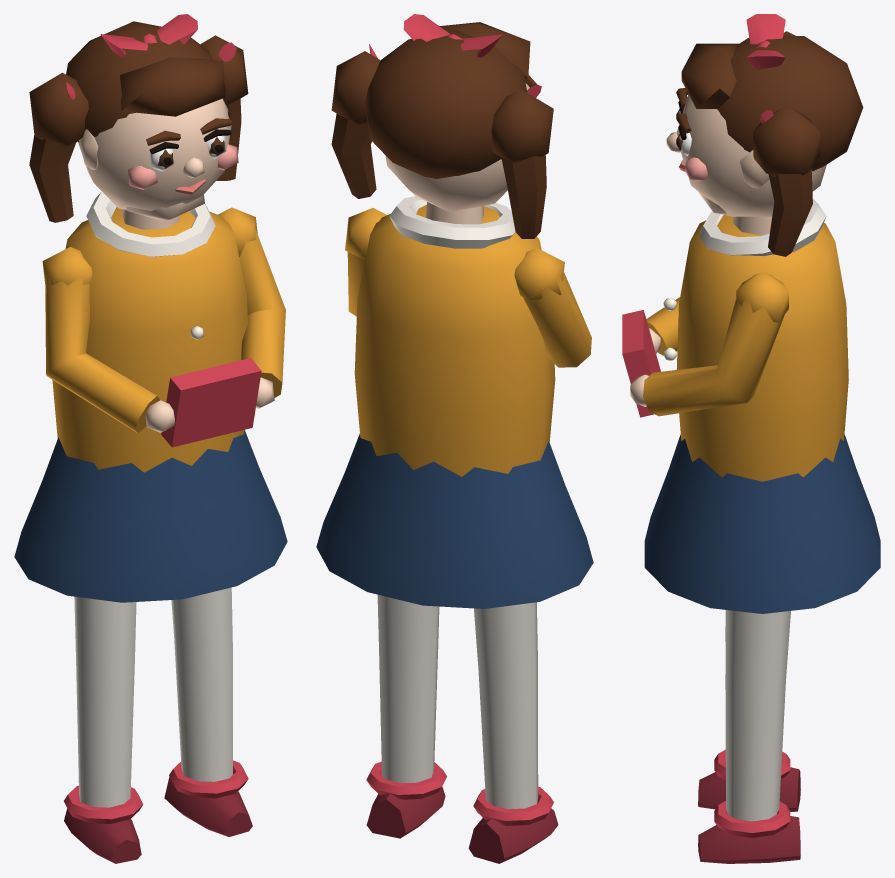
The model's file is char_girl.glb.
3 views of the same model, side by side, from view 1: azimuth 30°, elevation 25°; view 2: azimuth 150°, elevation 25°; view 3: azimuth 270°, elevation 25° (orthographic).
Parts seen in each view (by area): view 1: char_girl; view 2: char_girl; view 3: char_girl.
Boxes of the visible parts, x1=… form: char_girl: x1=14, y1=14, x2=287, y2=863; char_girl: x1=316, y1=14, x2=593, y2=863; char_girl: x1=622, y1=14, x2=880, y2=863.
Size of the model in its own units: 0.4095 by 1.27 by 0.3746.
